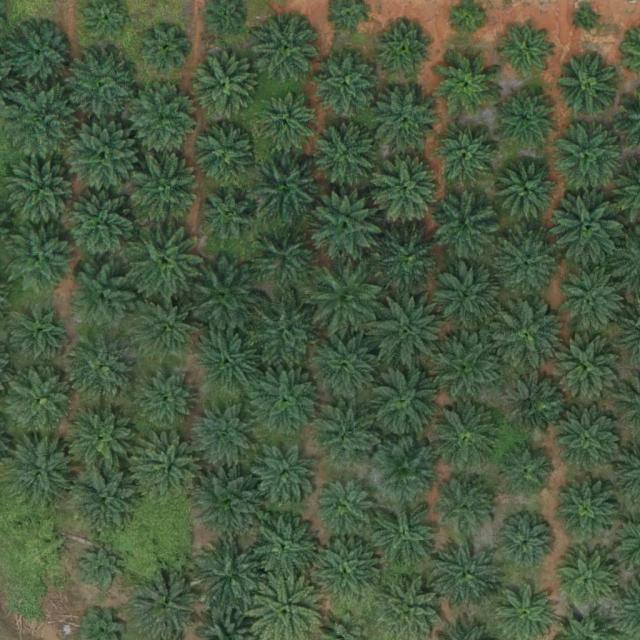Healthy: (5, 84, 83, 163), (64, 187, 142, 266), (127, 151, 205, 230), (126, 223, 204, 302), (186, 258, 264, 337), (246, 146, 324, 225), (246, 220, 324, 299), (246, 292, 324, 371), (309, 189, 387, 268), (308, 262, 386, 341), (368, 292, 446, 371), (548, 191, 626, 270), (366, 364, 444, 443), (308, 326, 386, 405), (247, 362, 325, 441), (193, 538, 271, 617), (369, 153, 447, 231), (488, 298, 566, 376), (429, 328, 507, 406), (429, 399, 507, 477), (195, 465, 266, 536), (66, 336, 137, 407), (66, 404, 137, 475), (9, 158, 79, 229), (7, 224, 78, 294), (3, 297, 73, 368), (65, 47, 135, 118), (68, 120, 138, 191), (66, 265, 137, 335), (129, 84, 199, 155), (134, 294, 204, 365), (556, 265, 626, 336), (370, 502, 440, 573), (311, 535, 381, 606), (250, 444, 320, 515), (251, 511, 321, 582), (135, 436, 205, 507), (69, 467, 139, 538), (554, 118, 624, 188), (432, 543, 502, 613), (7, 367, 77, 437), (6, 438, 76, 508), (7, 24, 70, 87), (194, 53, 257, 116), (254, 92, 317, 155), (374, 88, 437, 151), (379, 229, 442, 292), (435, 198, 498, 261), (495, 87, 558, 150), (555, 339, 618, 402), (554, 480, 617, 543), (500, 371, 563, 434), (375, 439, 438, 502), (197, 329, 260, 392), (194, 125, 256, 188), (258, 16, 320, 79), (315, 52, 377, 115), (315, 122, 377, 185), (438, 54, 500, 117), (435, 126, 497, 189), (438, 263, 500, 326), (497, 159, 559, 222), (495, 232, 557, 295), (558, 52, 620, 115), (558, 411, 620, 474), (556, 551, 618, 614), (436, 476, 498, 539), (319, 404, 381, 467), (198, 185, 260, 247), (383, 577, 445, 639), (192, 405, 254, 467), (134, 371, 196, 433), (499, 446, 554, 502), (499, 24, 554, 79), (497, 516, 552, 571), (319, 479, 374, 534), (381, 23, 435, 78)
Small: (144, 26, 191, 73), (79, 546, 126, 593), (578, 9, 601, 33)
